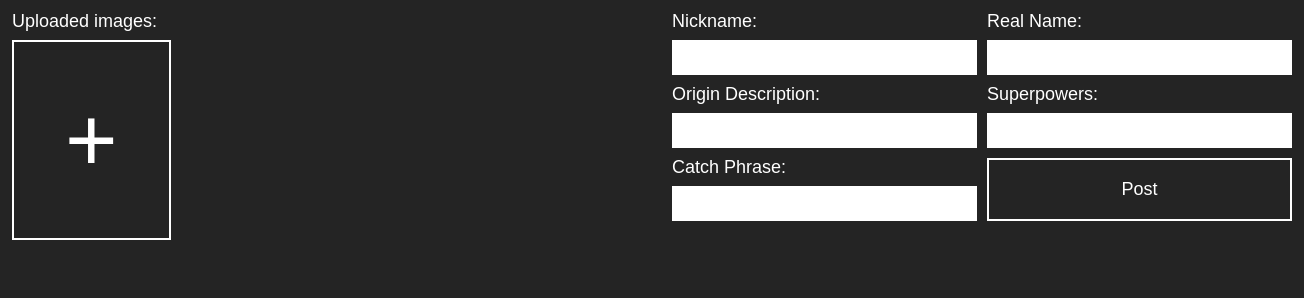
Test: FormHero Component › Displays validation error for empty form submission
// Attempt to submit the form without filling in any fields
Click the button "Post" at (1140, 190), box [987,158,1292,221]
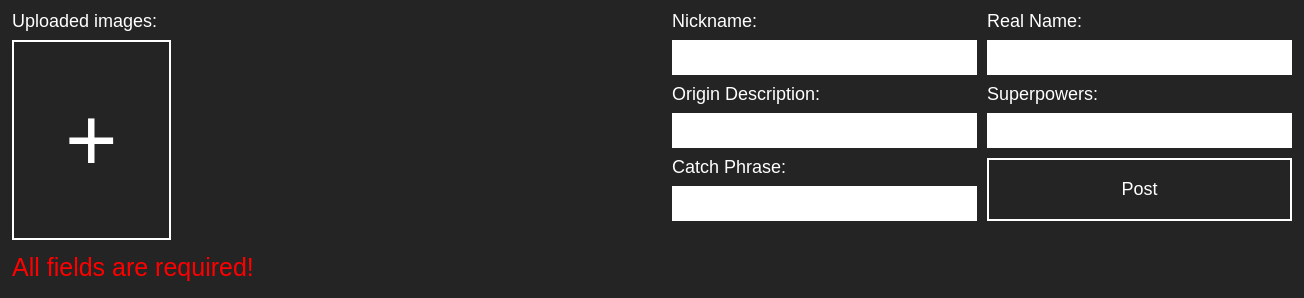
Now the text "All fields are required!" is shown, box [12,253,254,281]
